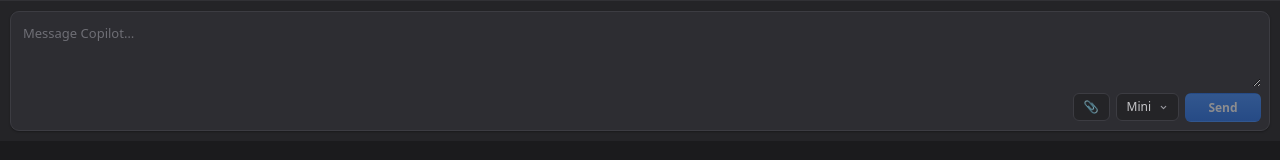
Test case: Composer › hides the Effort row for a model with no supported efforts
Click the button "Mini".
click(1147, 107)  # box [1116,93,1179,121]
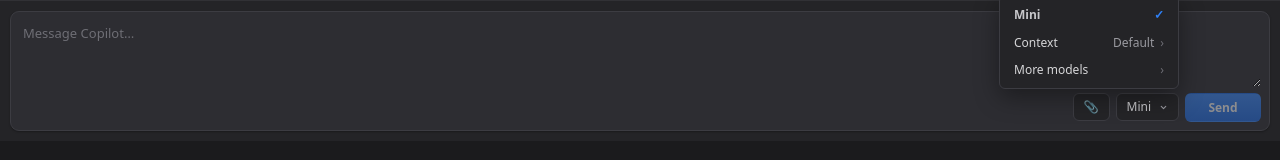
Now the menu item "Context Default ›" is shown, box [1004,29,1174,56]
Now the menu item "More models ›" is shown, box [1004,56,1174,84]
